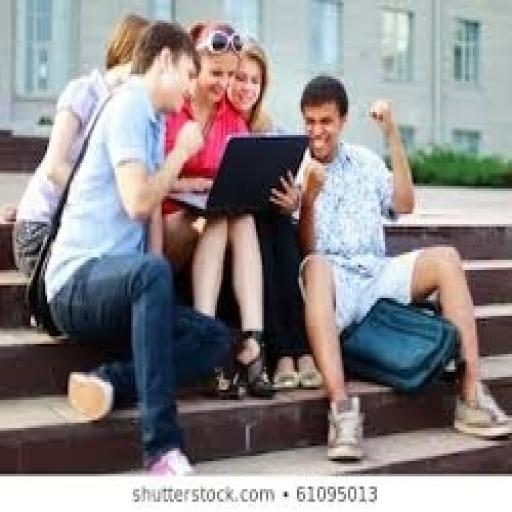sitting: (10, 10, 510, 471), (20, 16, 234, 476), (281, 71, 510, 461)
